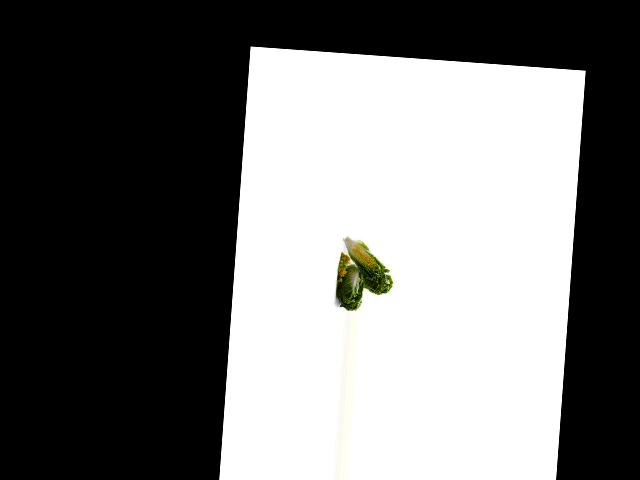lettuce: (333, 257, 367, 310)
